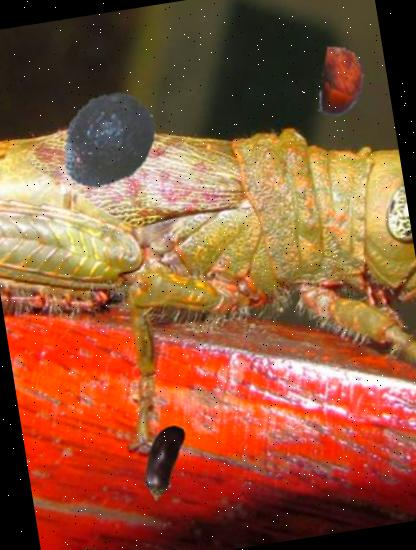Avocado: (50, 84, 170, 204)
Chestnut: (302, 42, 384, 124)
Eggplant: (116, 416, 210, 510)
